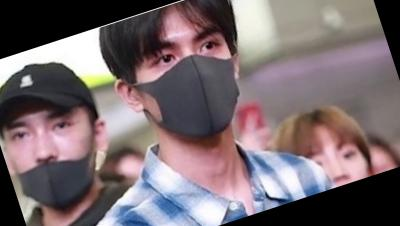with_mask: (122, 17, 255, 155)
without_mask: (303, 132, 371, 193)
